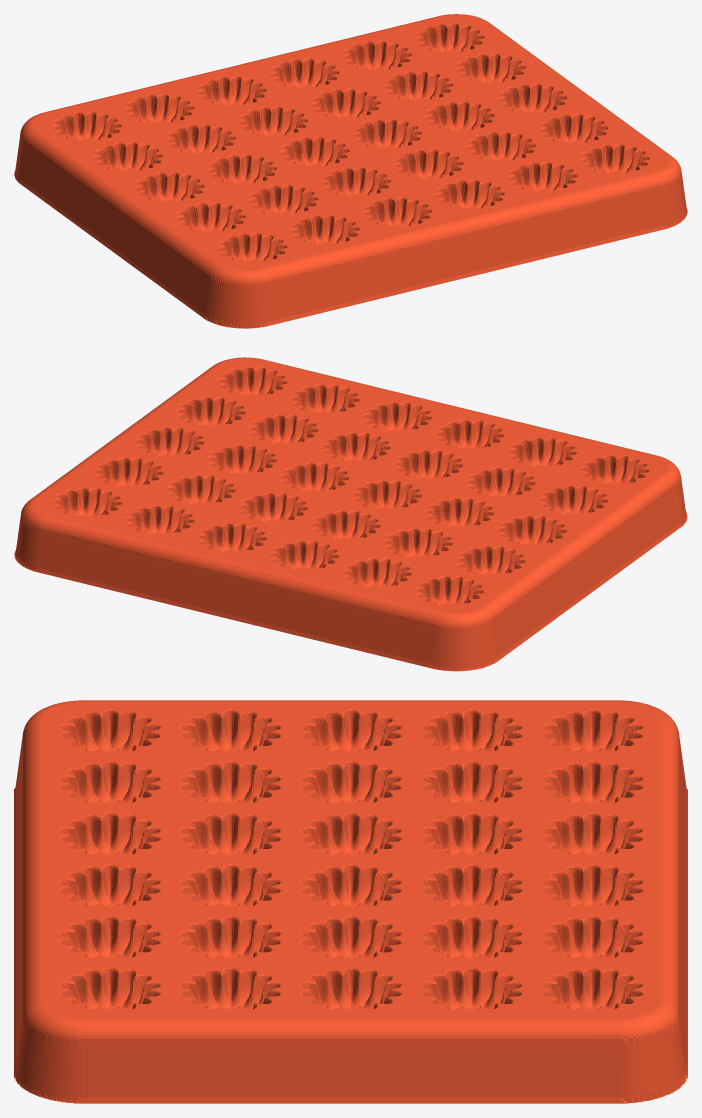
Rendered from mold.glb.
3 renders of one model, top to bottom at view 1: azimuth 30°, elevation 25°; view 2: azimuth 150°, elevation 25°; view 3: azimuth 270°, elevation 25°, orthographic. The views are drawn at different scales.
Parts seen in each view (by area): view 1: geometry_0; view 2: geometry_0; view 3: geometry_0.
Part boxes in pixels (bbox=[...]): geometry_0: bbox=[14, 14, 687, 328]; geometry_0: bbox=[14, 357, 687, 671]; geometry_0: bbox=[14, 700, 687, 1103].
Size of the model in its own units: 0.104 by 0.0105 by 0.0872.
